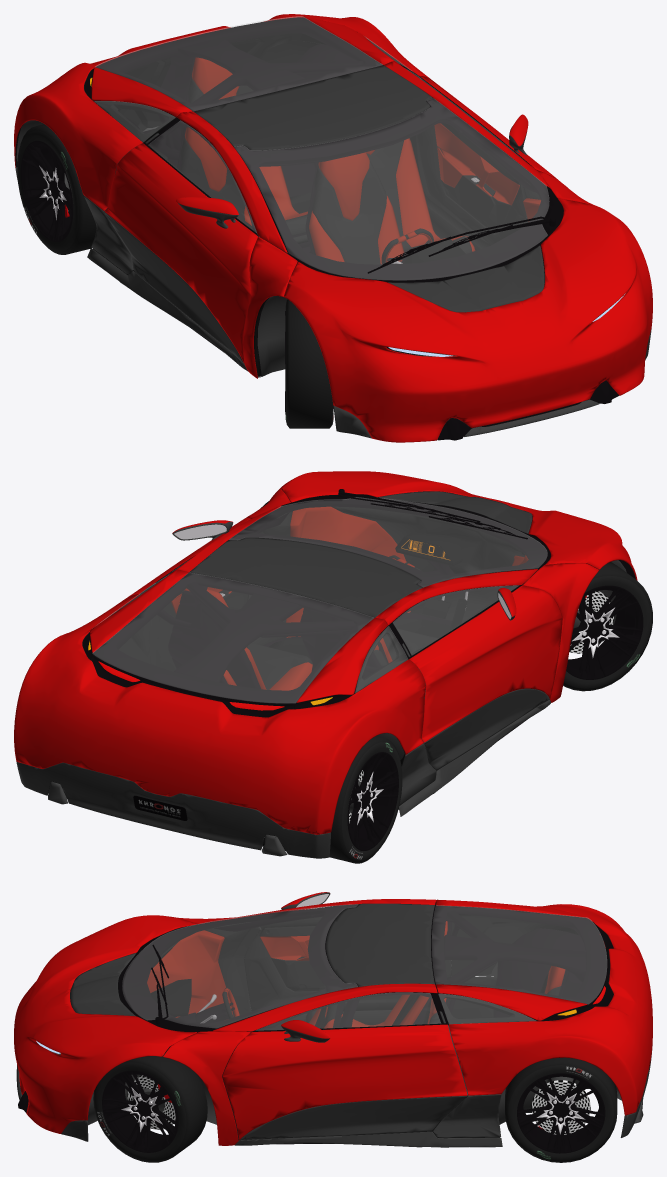
File: concept.glb
3 renders of one model, top to bottom at view 1: azimuth 30°, elevation 25°; view 2: azimuth 150°, elevation 25°; view 3: azimuth 270°, elevation 25°, orthographic. The views are drawn at different scales.
Parts seen in each view (by area): view 1: BodyHood, BodyWindshield, BodyRearwindow, BodyDoorRColor1, BodyRearPanelsColor1, BodyRoofPanel, BodyWindshieldGasket, InteriorSeatsColor1, InteriorSeatsColor2, BodyPillars, InteriorPillar, InteriorRearHatch (+21 smaller); view 2: BodyRearPanelsColor1, BodyRearwindow, BodyWindshield, BodyDoorRColor1, BodyPanelsColor2, BodyRoofPanel, BodyHood, InteriorRearHatch, BodyPillars, InteriorPillar, BodyWindshieldGasket, InteriorDashMid (+22 smaller); view 3: BodyRearPanelsColor1, BodyWindshield, BodyDoorLColor1, BodyHood, BodyRearwindow, BodyRoofPanel, BodyPillars, BodyWindshieldGasket, BodyDoorLColor2, BodyPanelsColor2, WheelFrontL, InteriorRearHatch (+25 smaller).
Boxes of the visible parts, left/top/right/bottom form: BodyHood: left=283, top=198, right=652, bottom=442; BodyWindshield: left=234, top=98, right=549, bottom=280; BodyRearwindow: left=95, top=16, right=382, bottom=110; BodyDoorRColor1: left=104, top=143, right=257, bottom=363; BodyRearPanelsColor1: left=14, top=14, right=428, bottom=210; BodyRoofPanel: left=193, top=65, right=432, bottom=150; BodyWindshieldGasket: left=234, top=99, right=563, bottom=282; InteriorSeatsColor1: left=185, top=57, right=475, bottom=264; InteriorSeatsColor2: left=180, top=78, right=472, bottom=264; BodyPillars: left=176, top=61, right=598, bottom=378; InteriorPillar: left=158, top=37, right=434, bottom=168; InteriorRearHatch: left=93, top=17, right=383, bottom=117; BodyRearPanelsColor1: left=14, top=569, right=425, bottom=834; BodyRearwindow: left=92, top=573, right=373, bottom=703; BodyWindshield: left=229, top=497, right=547, bottom=587; BodyDoorRColor1: left=409, top=585, right=562, bottom=742; BodyPanelsColor2: left=16, top=700, right=550, bottom=858; BodyRoofPanel: left=189, top=537, right=422, bottom=617; BodyHood: left=279, top=471, right=637, bottom=580; InteriorRearHatch: left=93, top=573, right=386, bottom=707; BodyPillars: left=175, top=489, right=599, bottom=702; InteriorPillar: left=174, top=574, right=417, bottom=682; BodyWindshieldGasket: left=230, top=497, right=550, bottom=587; InteriorDashMid: left=331, top=503, right=528, bottom=622; BodyRearPanelsColor1: left=436, top=899, right=652, bottom=1115; BodyWindshield: left=122, top=904, right=357, bottom=1028; BodyDoorLColor1: left=222, top=1024, right=467, bottom=1140; BodyHood: left=14, top=915, right=196, bottom=1133; BodyRearwindow: left=432, top=905, right=606, bottom=1003; BodyRoofPanel: left=326, top=903, right=434, bottom=986; BodyPillars: left=163, top=899, right=437, bottom=1145; BodyWindshieldGasket: left=118, top=905, right=357, bottom=1032; BodyDoorLColor2: left=240, top=1096, right=467, bottom=1140; BodyPanelsColor2: left=16, top=1045, right=652, bottom=1147; WheelFrontL: left=93, top=1054, right=207, bottom=1162; InteriorRearHatch: left=431, top=905, right=606, bottom=1020.
Size of the model in its own units: 2.54 by 1.15 by 4.36.
Materials: 23 (6 with a texture image).
